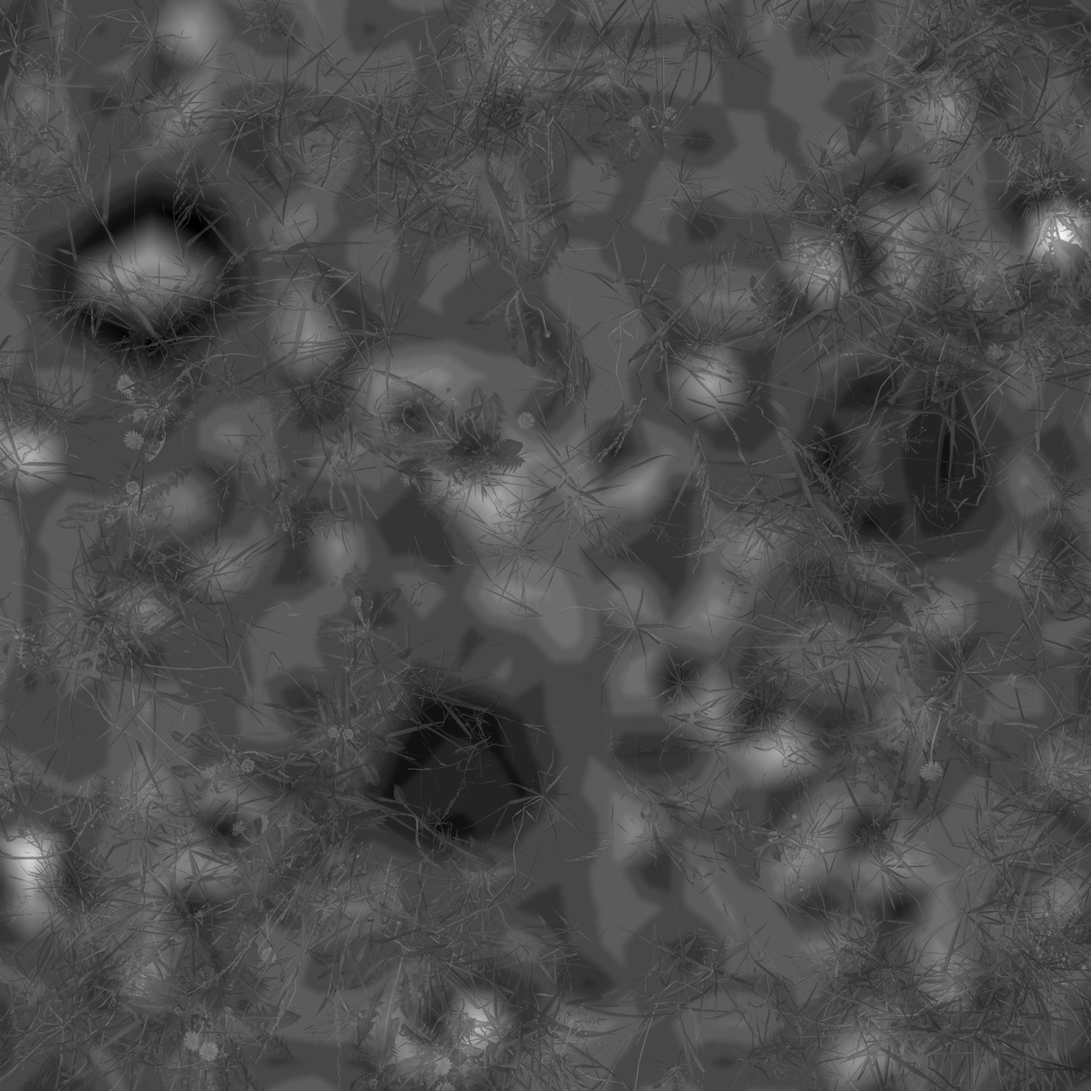landmine: (807, 370, 973, 545), (60, 206, 223, 362), (395, 711, 531, 844)
